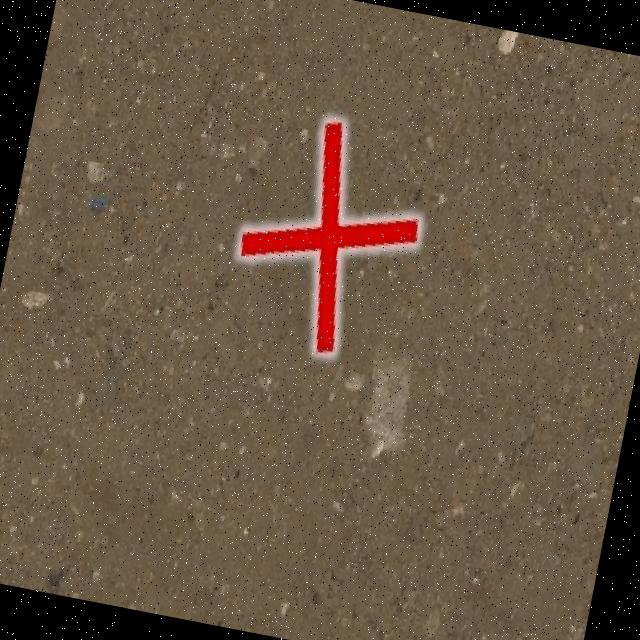x_marker: (222, 107, 436, 365)
